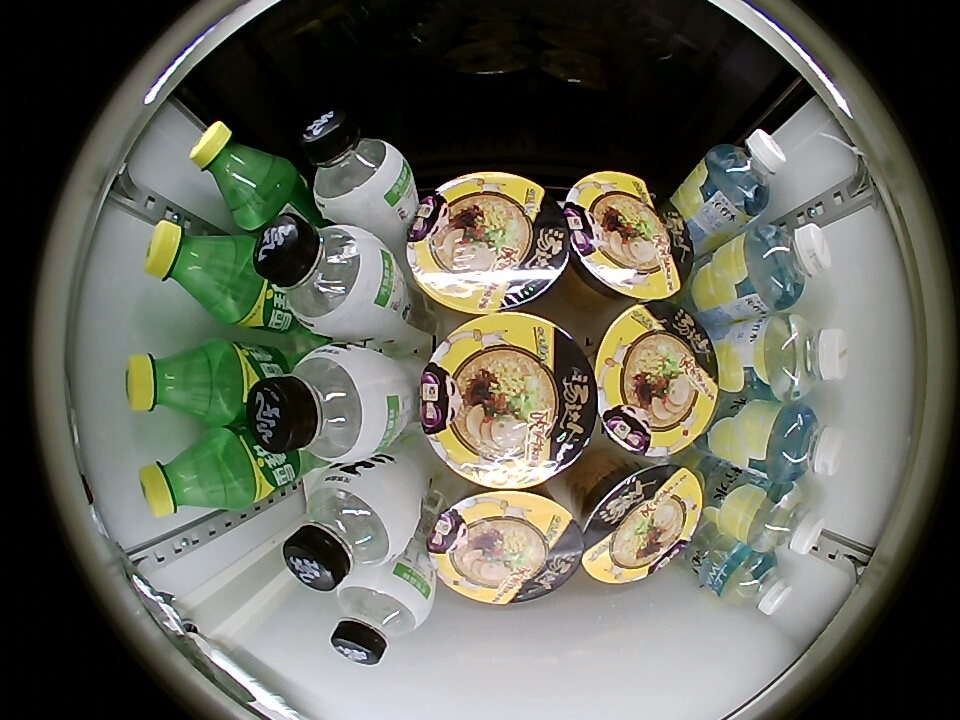qinningshui: (742, 222, 832, 309), (760, 315, 850, 400), (703, 129, 788, 216), (763, 403, 846, 480), (747, 482, 824, 556), (718, 550, 792, 615)
tangdaren2: (420, 313, 597, 489), (405, 171, 570, 313), (594, 302, 721, 458), (427, 489, 584, 606), (563, 171, 692, 301), (577, 461, 704, 584)
xuebi-b: (143, 216, 249, 320), (190, 119, 286, 222), (126, 344, 222, 422), (140, 436, 231, 517)
yuanqishui: (281, 465, 415, 592), (250, 343, 392, 462), (253, 216, 390, 337), (300, 108, 410, 224), (331, 567, 432, 665)
